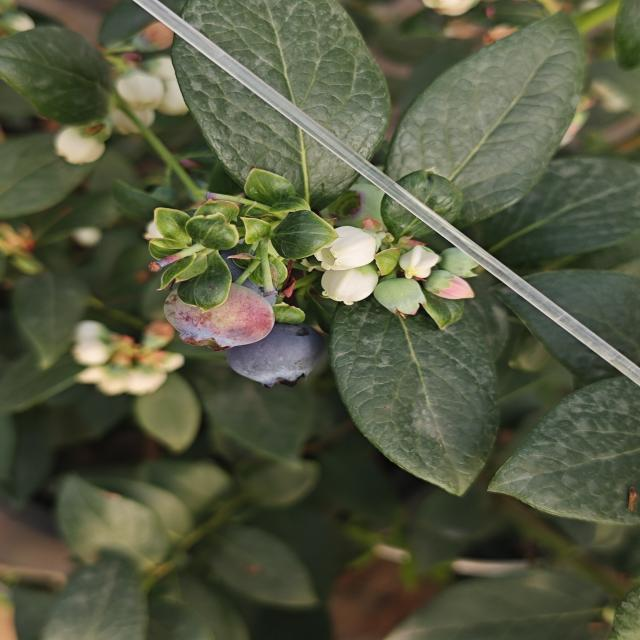ripe: (215, 325, 328, 391)
